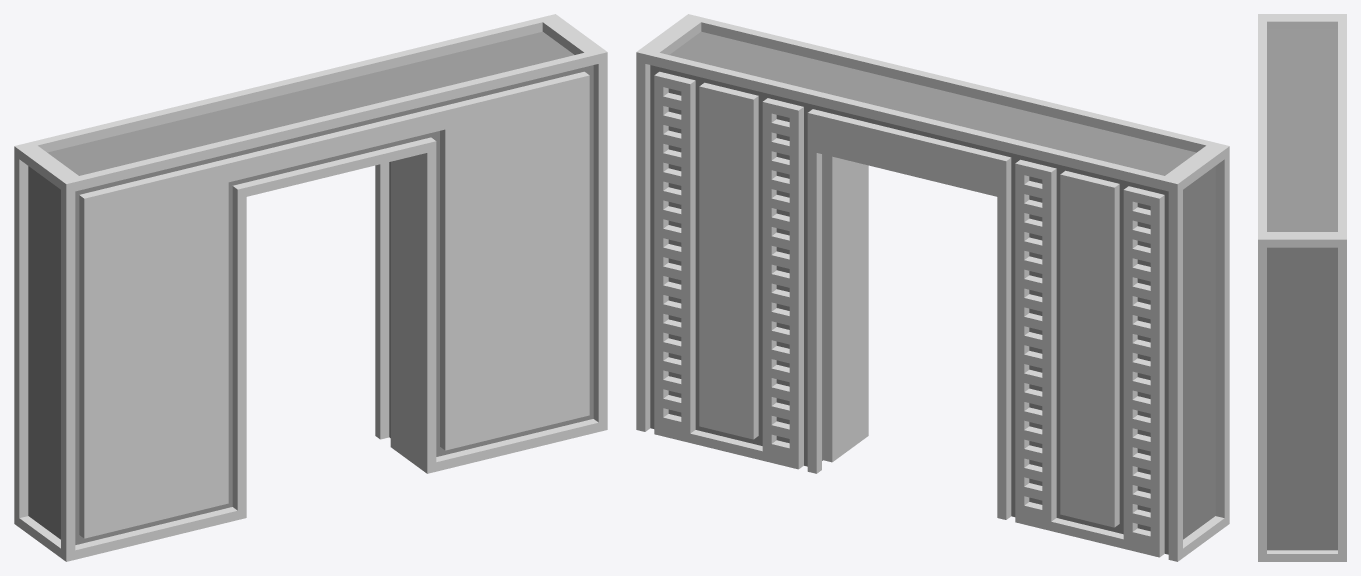
File: Main Hall Doorway 2.obj
3 renders of one model, left to right at view 1: azimuth 30°, elevation 25°; view 2: azimuth 150°, elevation 25°; view 3: azimuth 270°, elevation 25°, orthographic. The views are drawn at different scales.
Size of the model in its own units: 60 by 40 by 10.
Materials: 1 (1 with a texture image).
